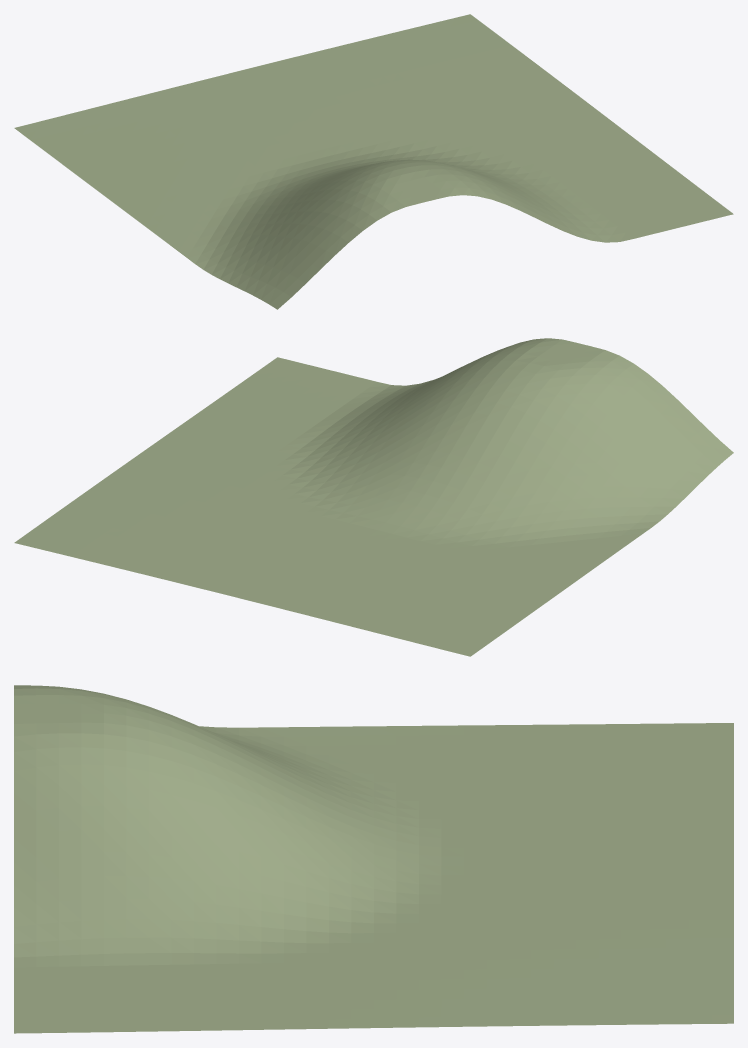
Rendered from desert-19-26.glb.
3 renders of one model, top to bottom at view 1: azimuth 30°, elevation 25°; view 2: azimuth 150°, elevation 25°; view 3: azimuth 270°, elevation 25°, orthographic. The views are drawn at different scales.
Parts seen in each view (by area): view 1: desert-19-26; view 2: desert-19-26; view 3: desert-19-26.
Part boxes in pixels (x1,y1,x2,y2): desert-19-26: [14, 14, 733, 309]; desert-19-26: [14, 338, 733, 656]; desert-19-26: [14, 685, 733, 1033].
Bounding box in the file's own units: 512 × 94.98 × 512.
